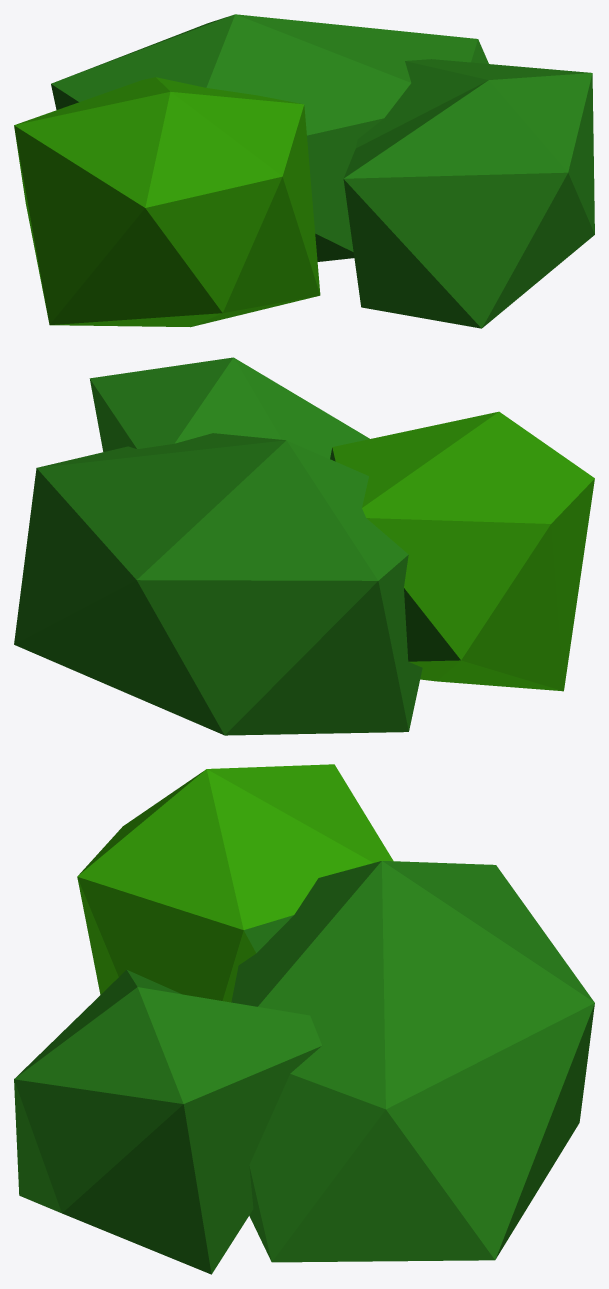
File: Bush0.fbx
3 views of the same model, one above another, from view 1: azimuth 30°, elevation 25°; view 2: azimuth 150°, elevation 25°; view 3: azimuth 270°, elevation 25° (orthographic). The views are drawn at different scales.
Visible parts, largest first — view 1: Bush0; view 2: Bush0; view 3: Bush0.
Part boxes in pixels (bbox=[...]): Bush0: bbox=[14, 14, 594, 328]; Bush0: bbox=[14, 357, 594, 735]; Bush0: bbox=[14, 764, 594, 1274].
Size of the model in its own units: 494 by 238 by 397.
